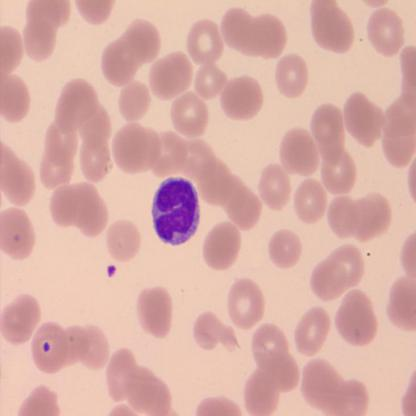Band Neutrophil: (149, 175, 203, 249)
